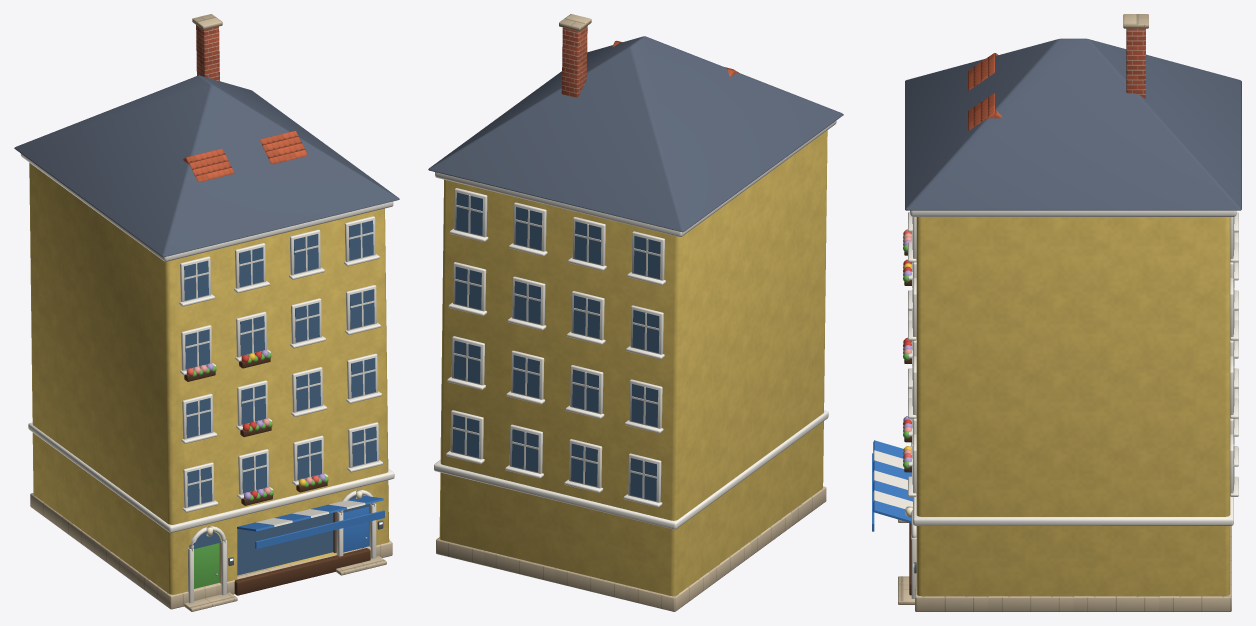
File: house_k.gltf
3 renders of one model, left to right at view 1: azimuth 30°, elevation 25°; view 2: azimuth 150°, elevation 25°; view 3: azimuth 270°, elevation 25°, orthographic. The views are drawn at different scales.
Parts seen in each view (by area): view 1: house_k_mesh, INT_door_house_k_0, INT_door_house_k_1; view 2: house_k_mesh; view 3: house_k_mesh.
Part boxes in pixels (x1,y1,x2,y2): house_k_mesh: [14, 14, 399, 611]; INT_door_house_k_0: [194, 543, 219, 588]; INT_door_house_k_1: [343, 506, 368, 552]; house_k_mesh: [428, 14, 843, 611]; house_k_mesh: [872, 14, 1241, 611].
Size of what is drawn, in the model's own units: 10.82 by 21.11 by 12.97.
Materials: 23 (4 with a texture image).
